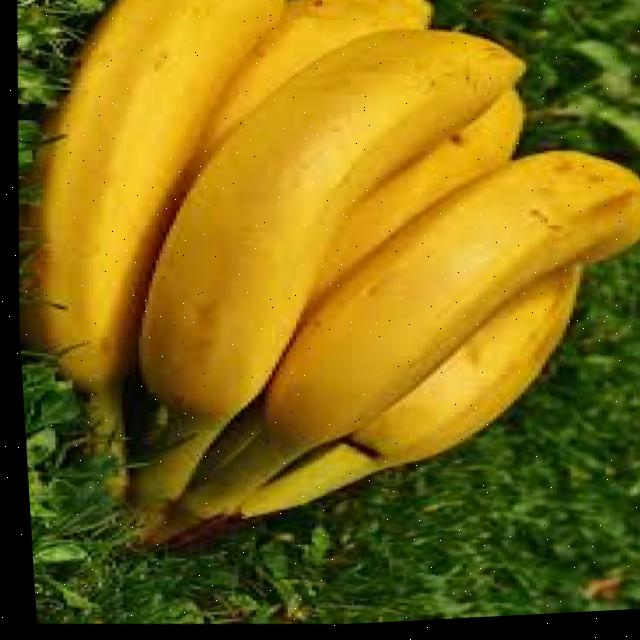Banana: (137, 35, 518, 428), (259, 158, 640, 448), (38, 0, 283, 393), (347, 271, 574, 471), (316, 94, 521, 297), (206, 0, 431, 145)
